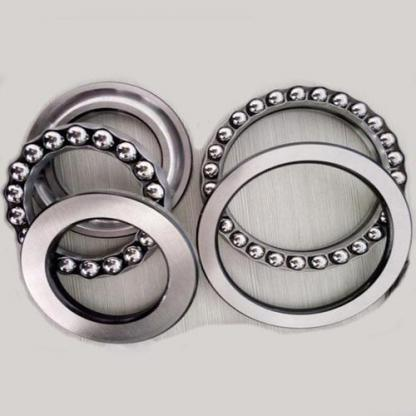FOD: (192, 79, 412, 334)
